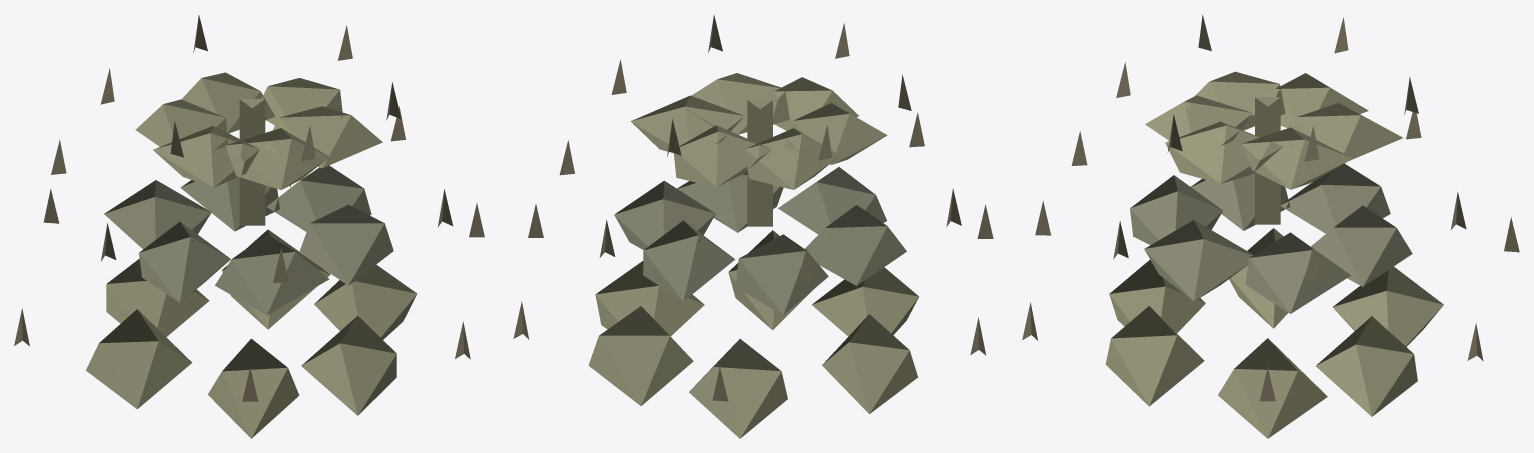
The model's file is cao.shamo@subadult__winter.glb.
3 views of the same model, side by side, from view 1: azimuth 30°, elevation 25°; view 2: azimuth 150°, elevation 25°; view 3: azimuth 270°, elevation 25° (orthographic).
Parts seen in each view (by area): view 1: cao.shamo@subadult__winter; view 2: cao.shamo@subadult__winter; view 3: cao.shamo@subadult__winter.
Boxes of the visible parts, <box> form: cao.shamo@subadult__winter: <box>14,15,484,438</box>; cao.shamo@subadult__winter: <box>513,15,993,438</box>; cao.shamo@subadult__winter: <box>1022,15,1519,438</box>.
Size of the model in its own units: 0.9884 by 0.6386 by 0.9117.
